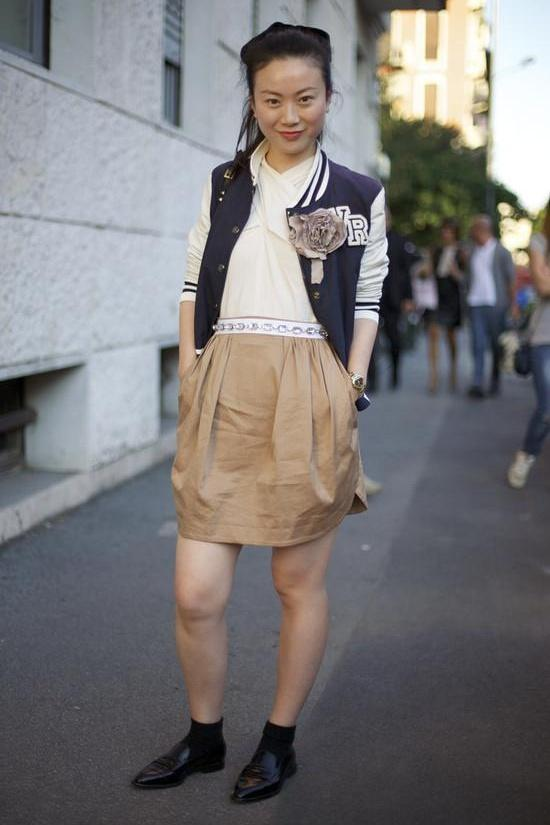skirt: (170, 314, 361, 544)
sweater: (180, 136, 390, 369)
